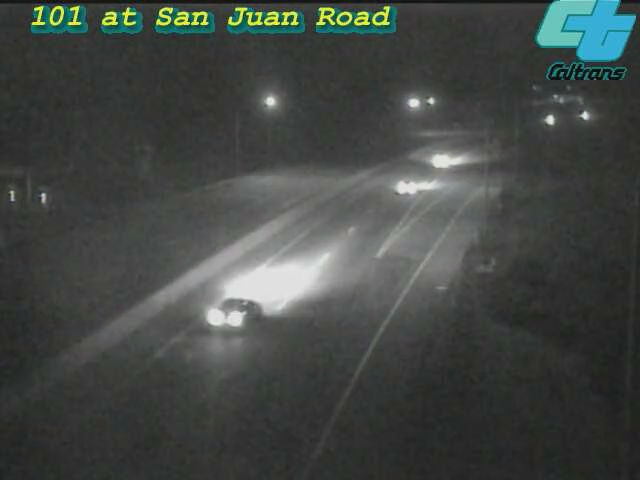vehicle: (401, 121, 481, 201), (367, 148, 447, 228), (197, 272, 277, 352), (523, 94, 573, 144), (559, 91, 609, 141)
